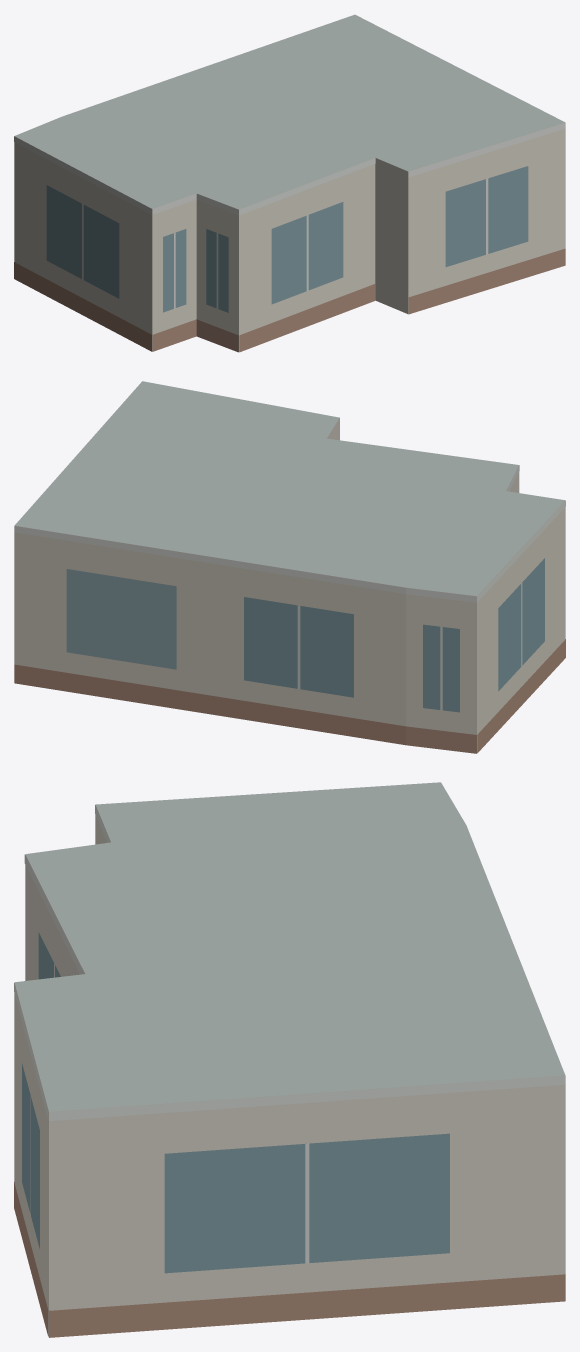
File: survey-upis-32904142.glb
The picture shows the model from 3 angles, top to bottom: view 1: azimuth 30°, elevation 25°; view 2: azimuth 150°, elevation 25°; view 3: azimuth 270°, elevation 25°; orthographic projection. The views are drawn at different scales.
Visible parts, largest first — view 1: survey-upis-32904142.tmp; view 2: survey-upis-32904142.tmp; view 3: survey-upis-32904142.tmp.
Part boxes in pixels (x1,y1,x2,y2): survey-upis-32904142.tmp: [14, 14, 565, 352]; survey-upis-32904142.tmp: [14, 381, 565, 753]; survey-upis-32904142.tmp: [14, 782, 565, 1337].
Bounding box in the file's own units: 9.57 × 3.05 × 6.76.
